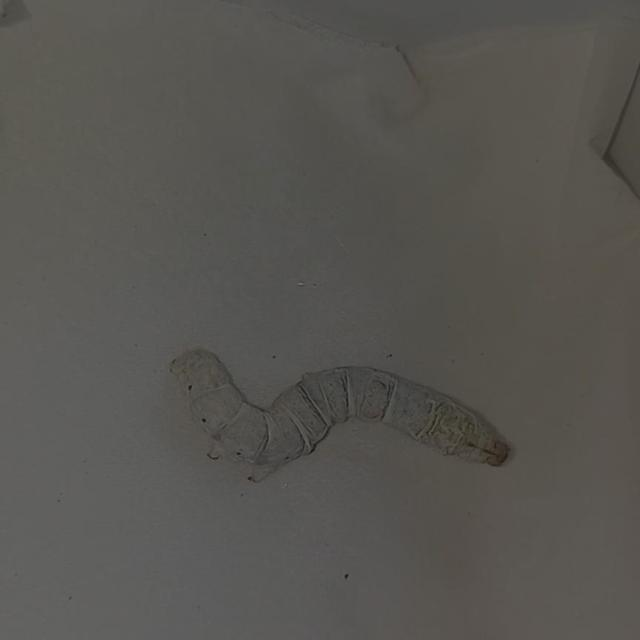Healthy: (162, 336, 516, 496)
